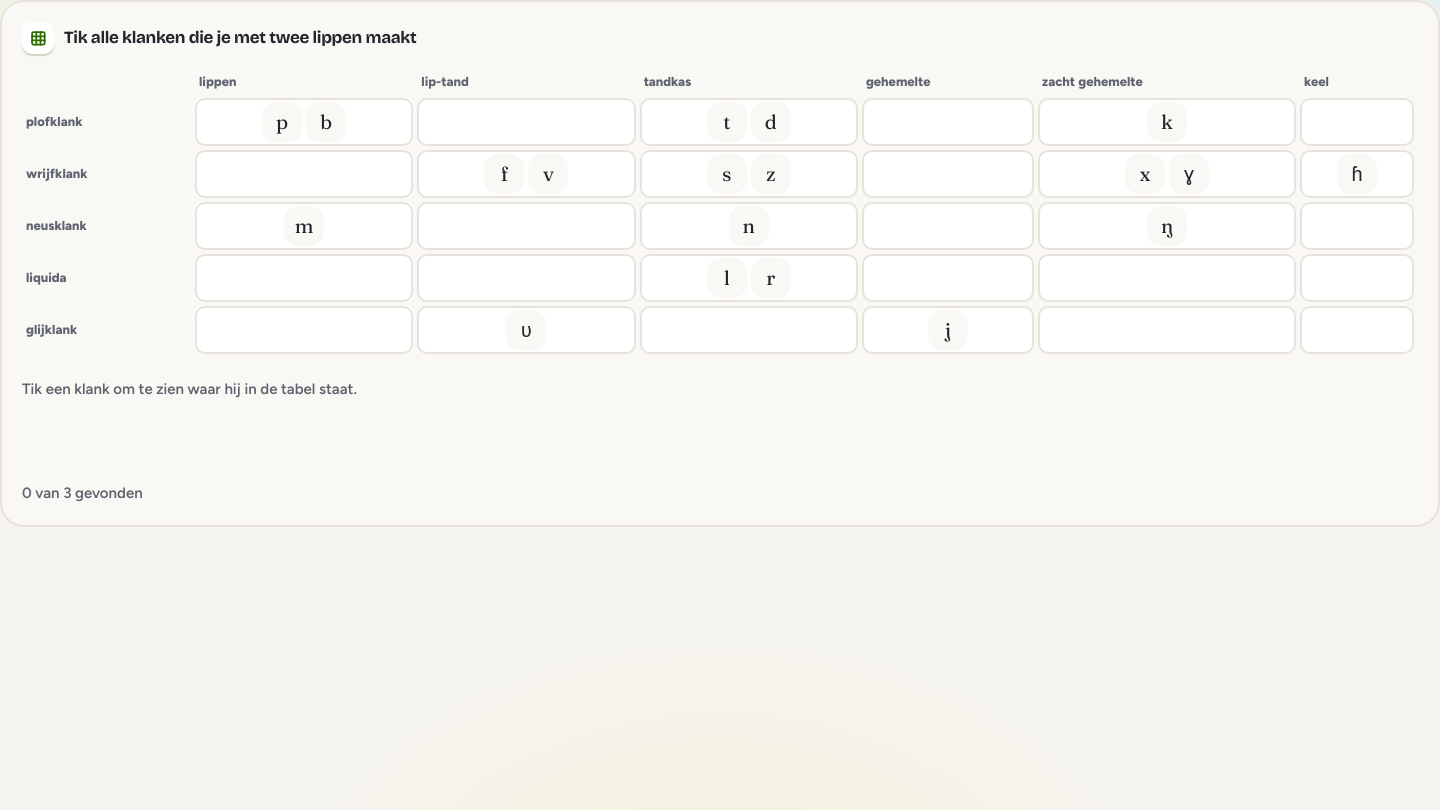
Scenario: klankexperimenten › klanktabel: zegt waar een klank staat en lost op met alle lipklanken
The width and height of the screenshot is (1440, 810).
Click the button named "/t/, plofklank, tandkas, zoals in tak": (727, 122) [707,102,747,142]
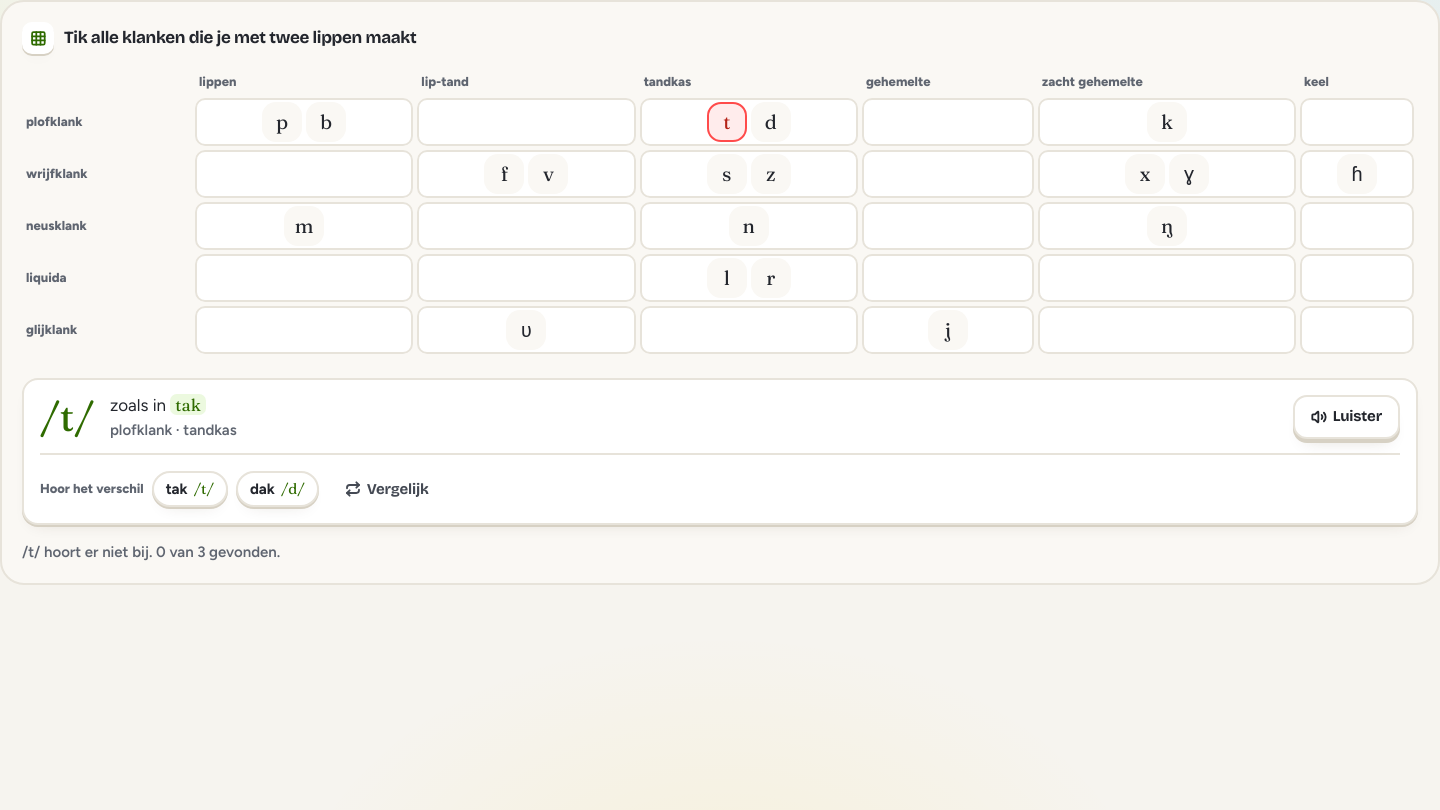
Check: the message shows "/t/ hoort er niet bij.", box [22,543,280,561]
Check: the text "plofklank · tandkas" is shown, box [110,421,237,439]
Click the button named "/p/, plofklank, lippen, zoals in pak": (282, 122) [262,102,302,142]
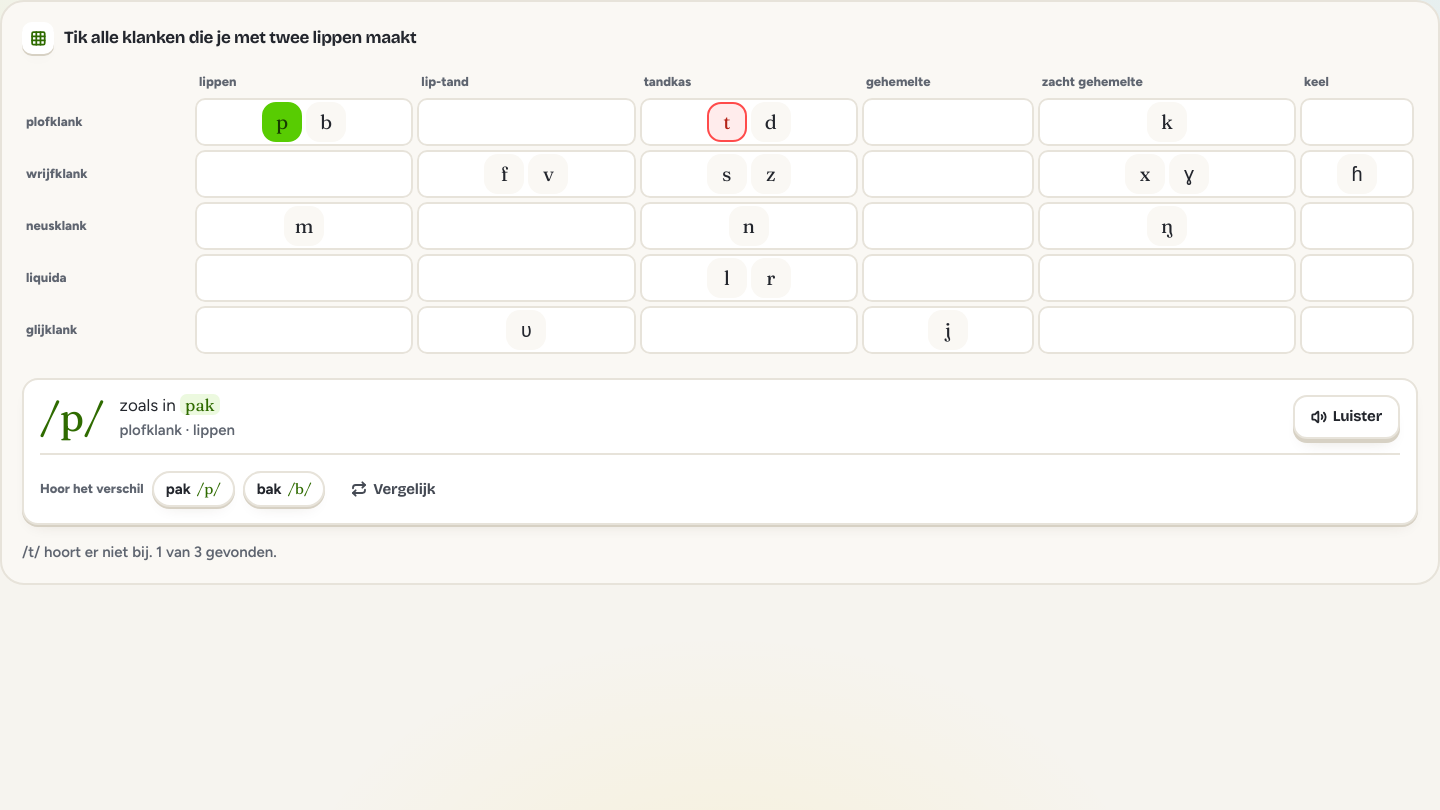
Click the button named "/b/, plofklank, lippen, zoals in bak": (326, 122) [306,102,346,142]
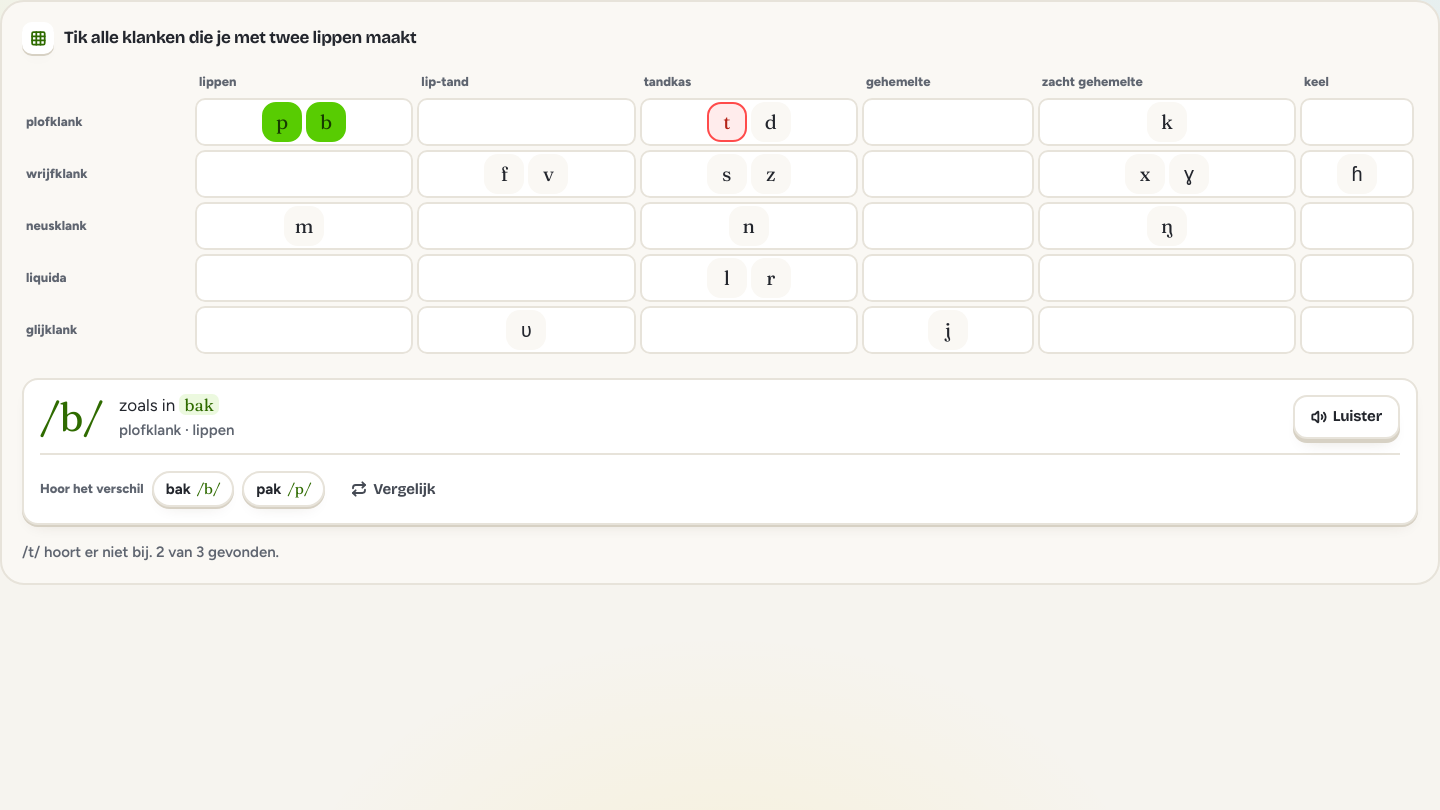
Click the button named "/m/, neusklank, lippen, zoals in mat": (304, 226) [284,206,324,246]
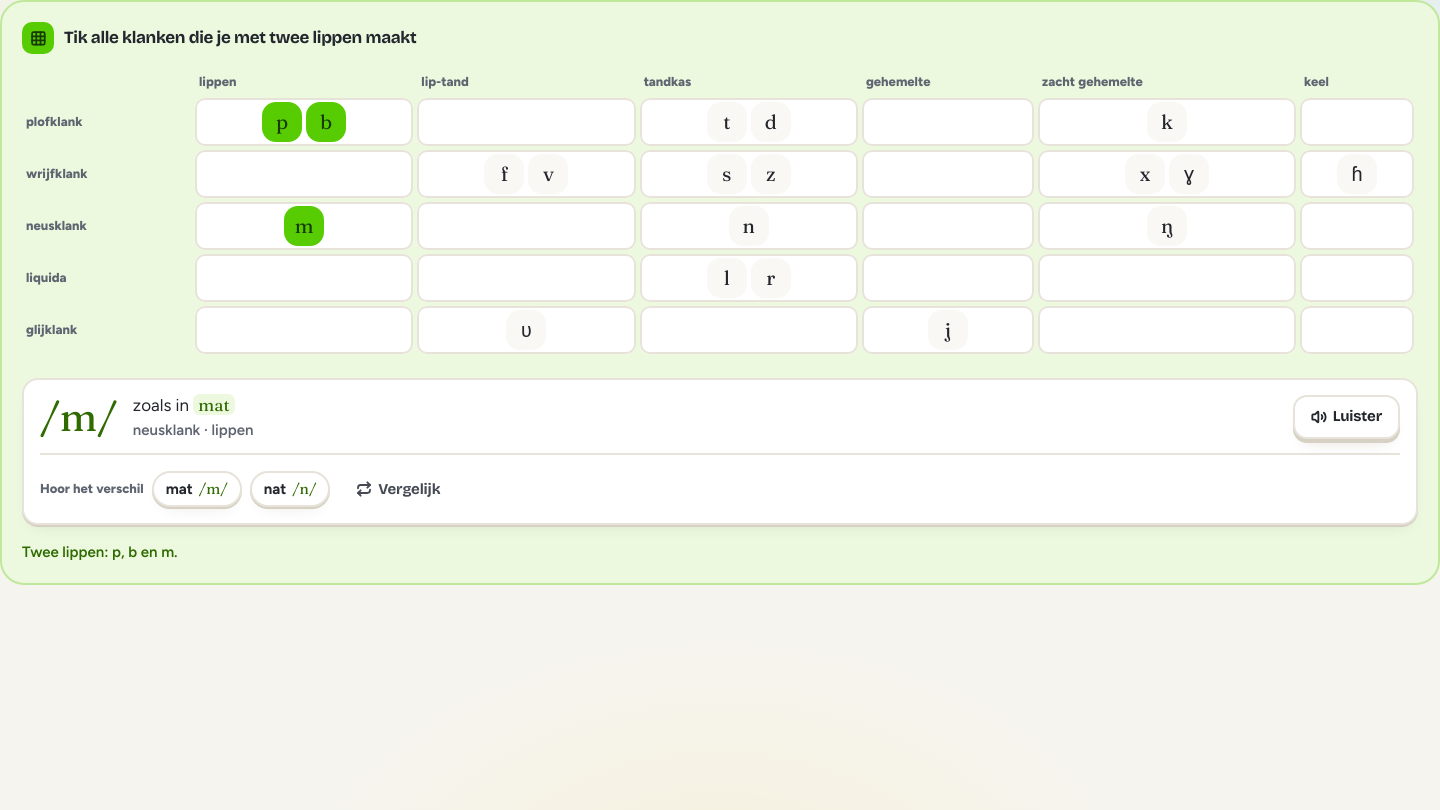
Check: the message reads "Twee lippen: p, b en m.", box [22,543,178,561]
